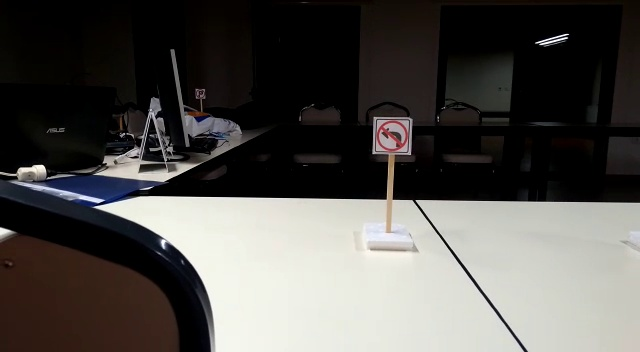sola_donulmez: (369, 116, 412, 157)
